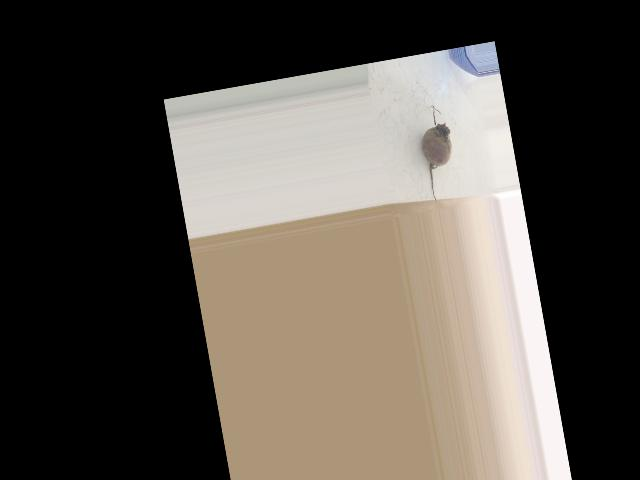beet: (415, 103, 461, 203)
